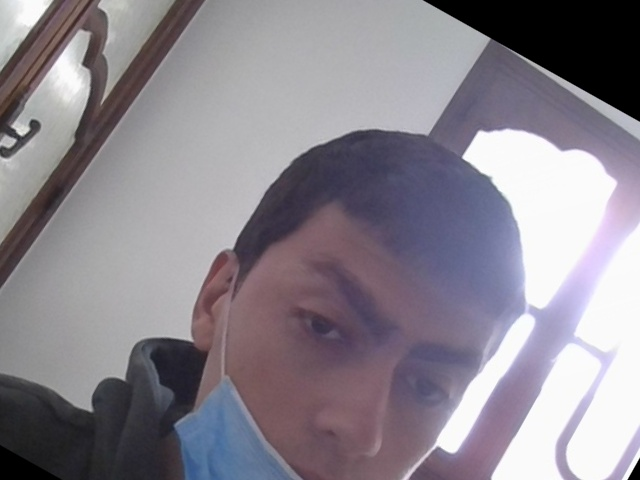mask_weared_incorrect: (181, 150, 496, 480)
